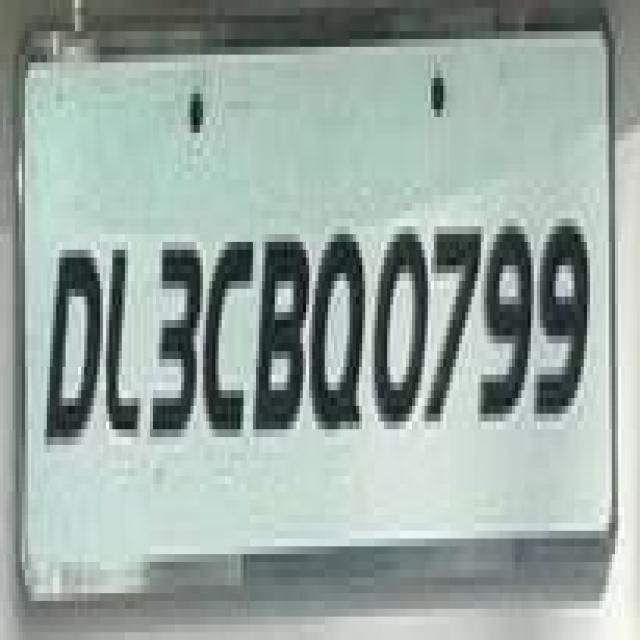license_plate: (0, 23, 621, 561)
